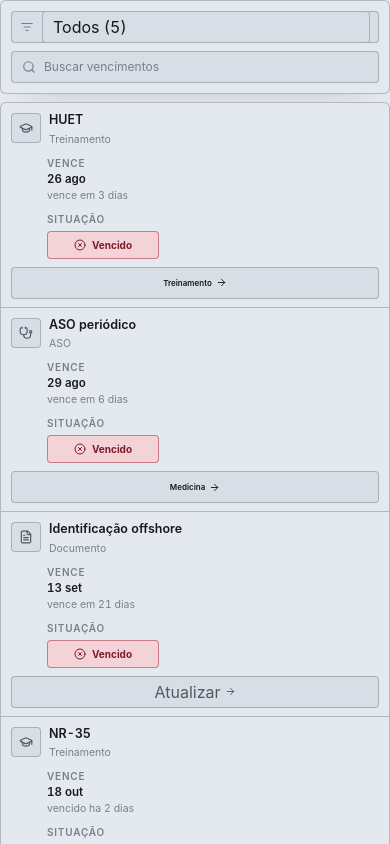
Test: ExpirationsPage › renders a table-like due-date ordered list and keeps filters working
The width and height of the screenshot is (390, 844).
Check: the heading "HUET" is shown, box [49,112,83,127]
Check: the heading "ASO periódico" is shown, box [49,316,136,334]
Select "Documentos (1)" in the dropdown named "Filtrar vencimentos": (206, 27) [42,11,370,43]
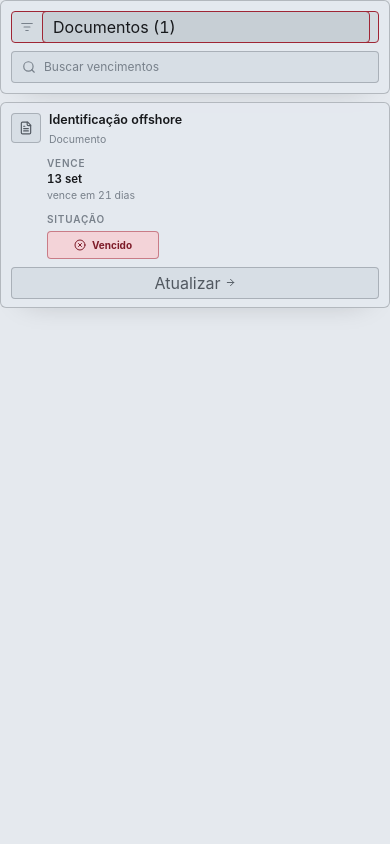
Check: the heading "Identificação offshore" is shown, box [49,111,182,130]
Check: the number of list items is 1, box [1,103,389,306]
